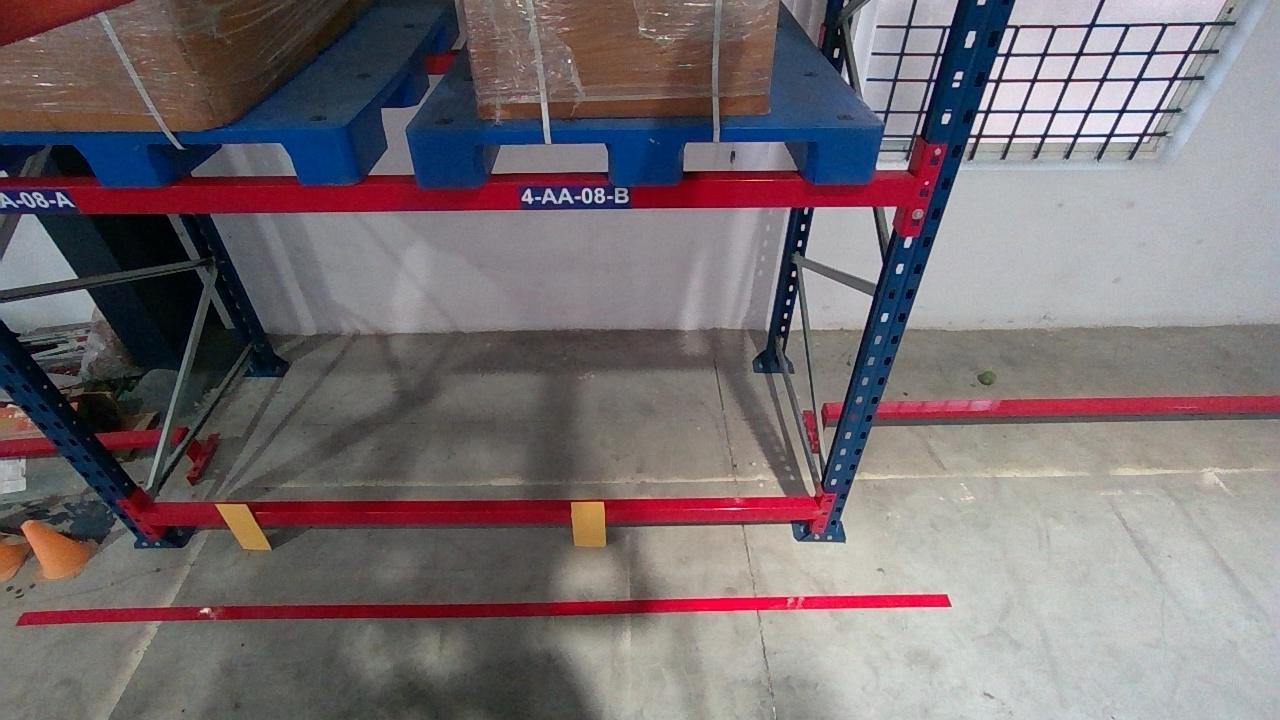h_rack: (2, 177, 914, 212), (142, 505, 820, 527)
orange_strip: (212, 503, 271, 549), (570, 501, 607, 546)
red_line: (8, 593, 951, 621)
small_pallet: (412, 124, 885, 183), (0, 128, 354, 186)
